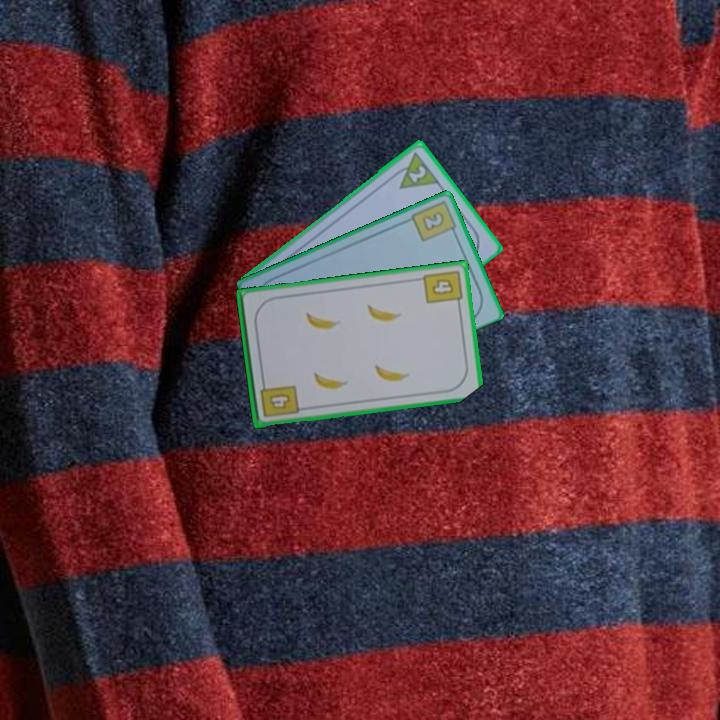2b: (408, 197, 460, 244)
2p: (388, 148, 442, 192)
4b: (420, 266, 465, 310), (256, 377, 301, 420)
